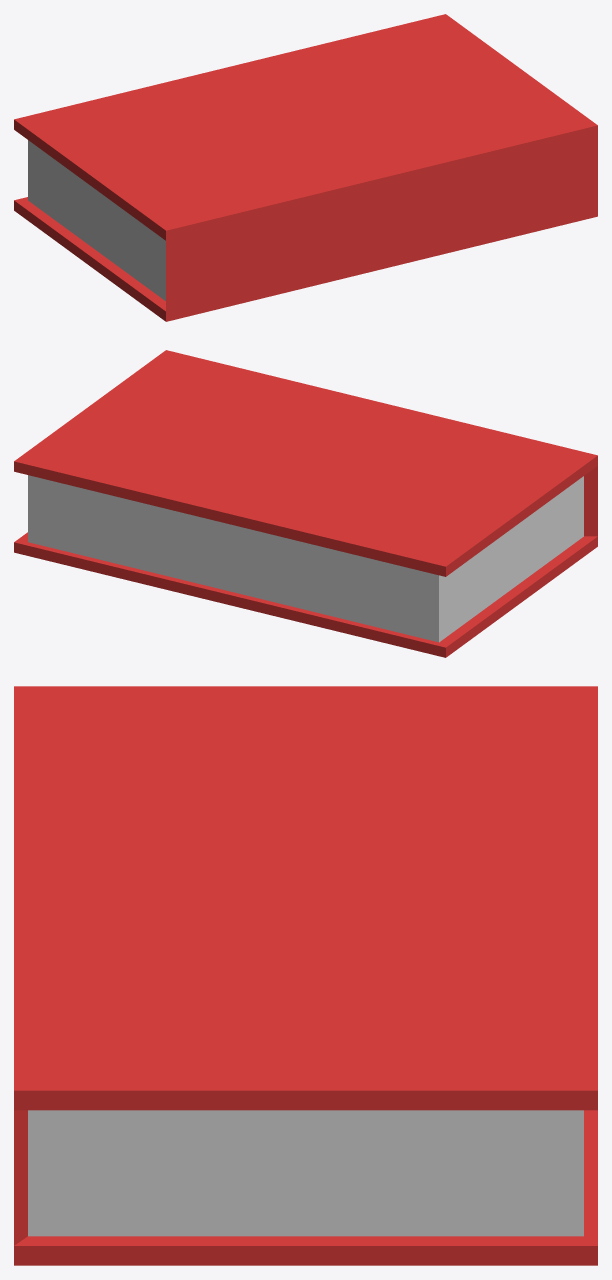
Rendered from book1-transformed.glb.
3 renders of one model, top to bottom at view 1: azimuth 30°, elevation 25°; view 2: azimuth 150°, elevation 25°; view 3: azimuth 270°, elevation 25°, orthographic. The views are drawn at different scales.
Visible parts, largest first — view 1: book; view 2: book; view 3: book.
Boxes of the visible parts, x1,y1,x2,y2 form: book: (14,14,597,321); book: (14,350,597,657); book: (14,686,597,1265).
Size of the model in its own units: 5.03 by 1.02 by 3.07.
